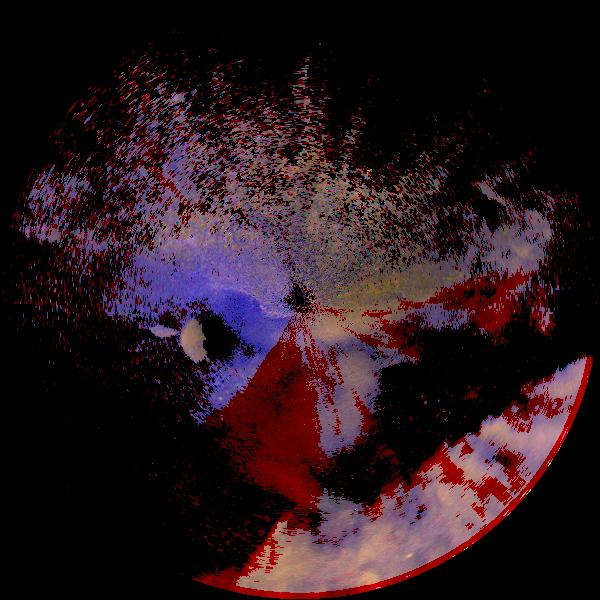roost: (97, 296, 238, 437)
